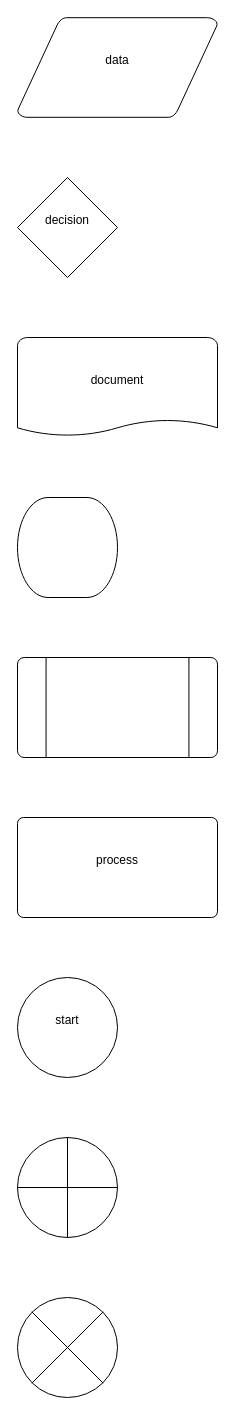
The diagram is 235 pixels wide and 1415 high, and some of its shapes have lost their labels. The centre of each missing label's shape, as x and y in pixels:
end: pixel 67 547
subprocess: pixel 117 707
